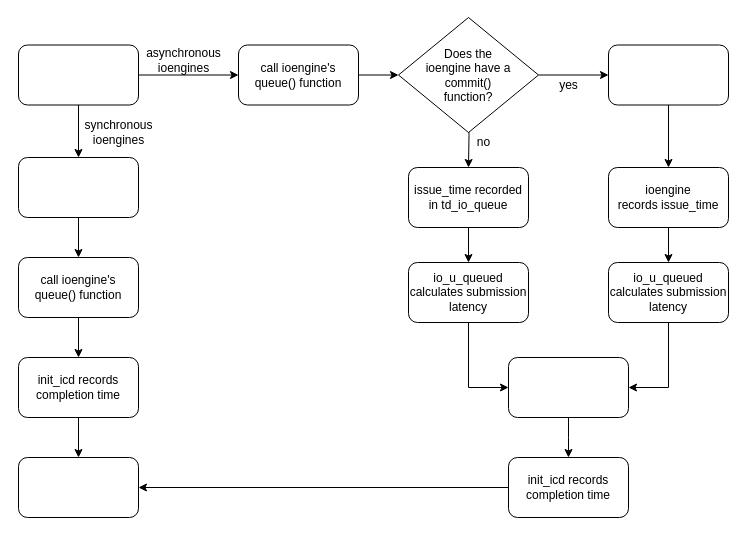
This 746x535 diagram has some shape labels left out. The shapes that lost their labels are listed below. From the top down, each one's centre as x and y in pixels, then its label:
At point (78, 74): "get_io_u() returns an io_u with start_time set".
At point (668, 74): "call ioengine's commit function".
At point (78, 187): "td_io_queue sets issue_time".
At point (568, 387): "wait_for_completions".
At point (78, 487): "account_io_completion records completion and total latency".
